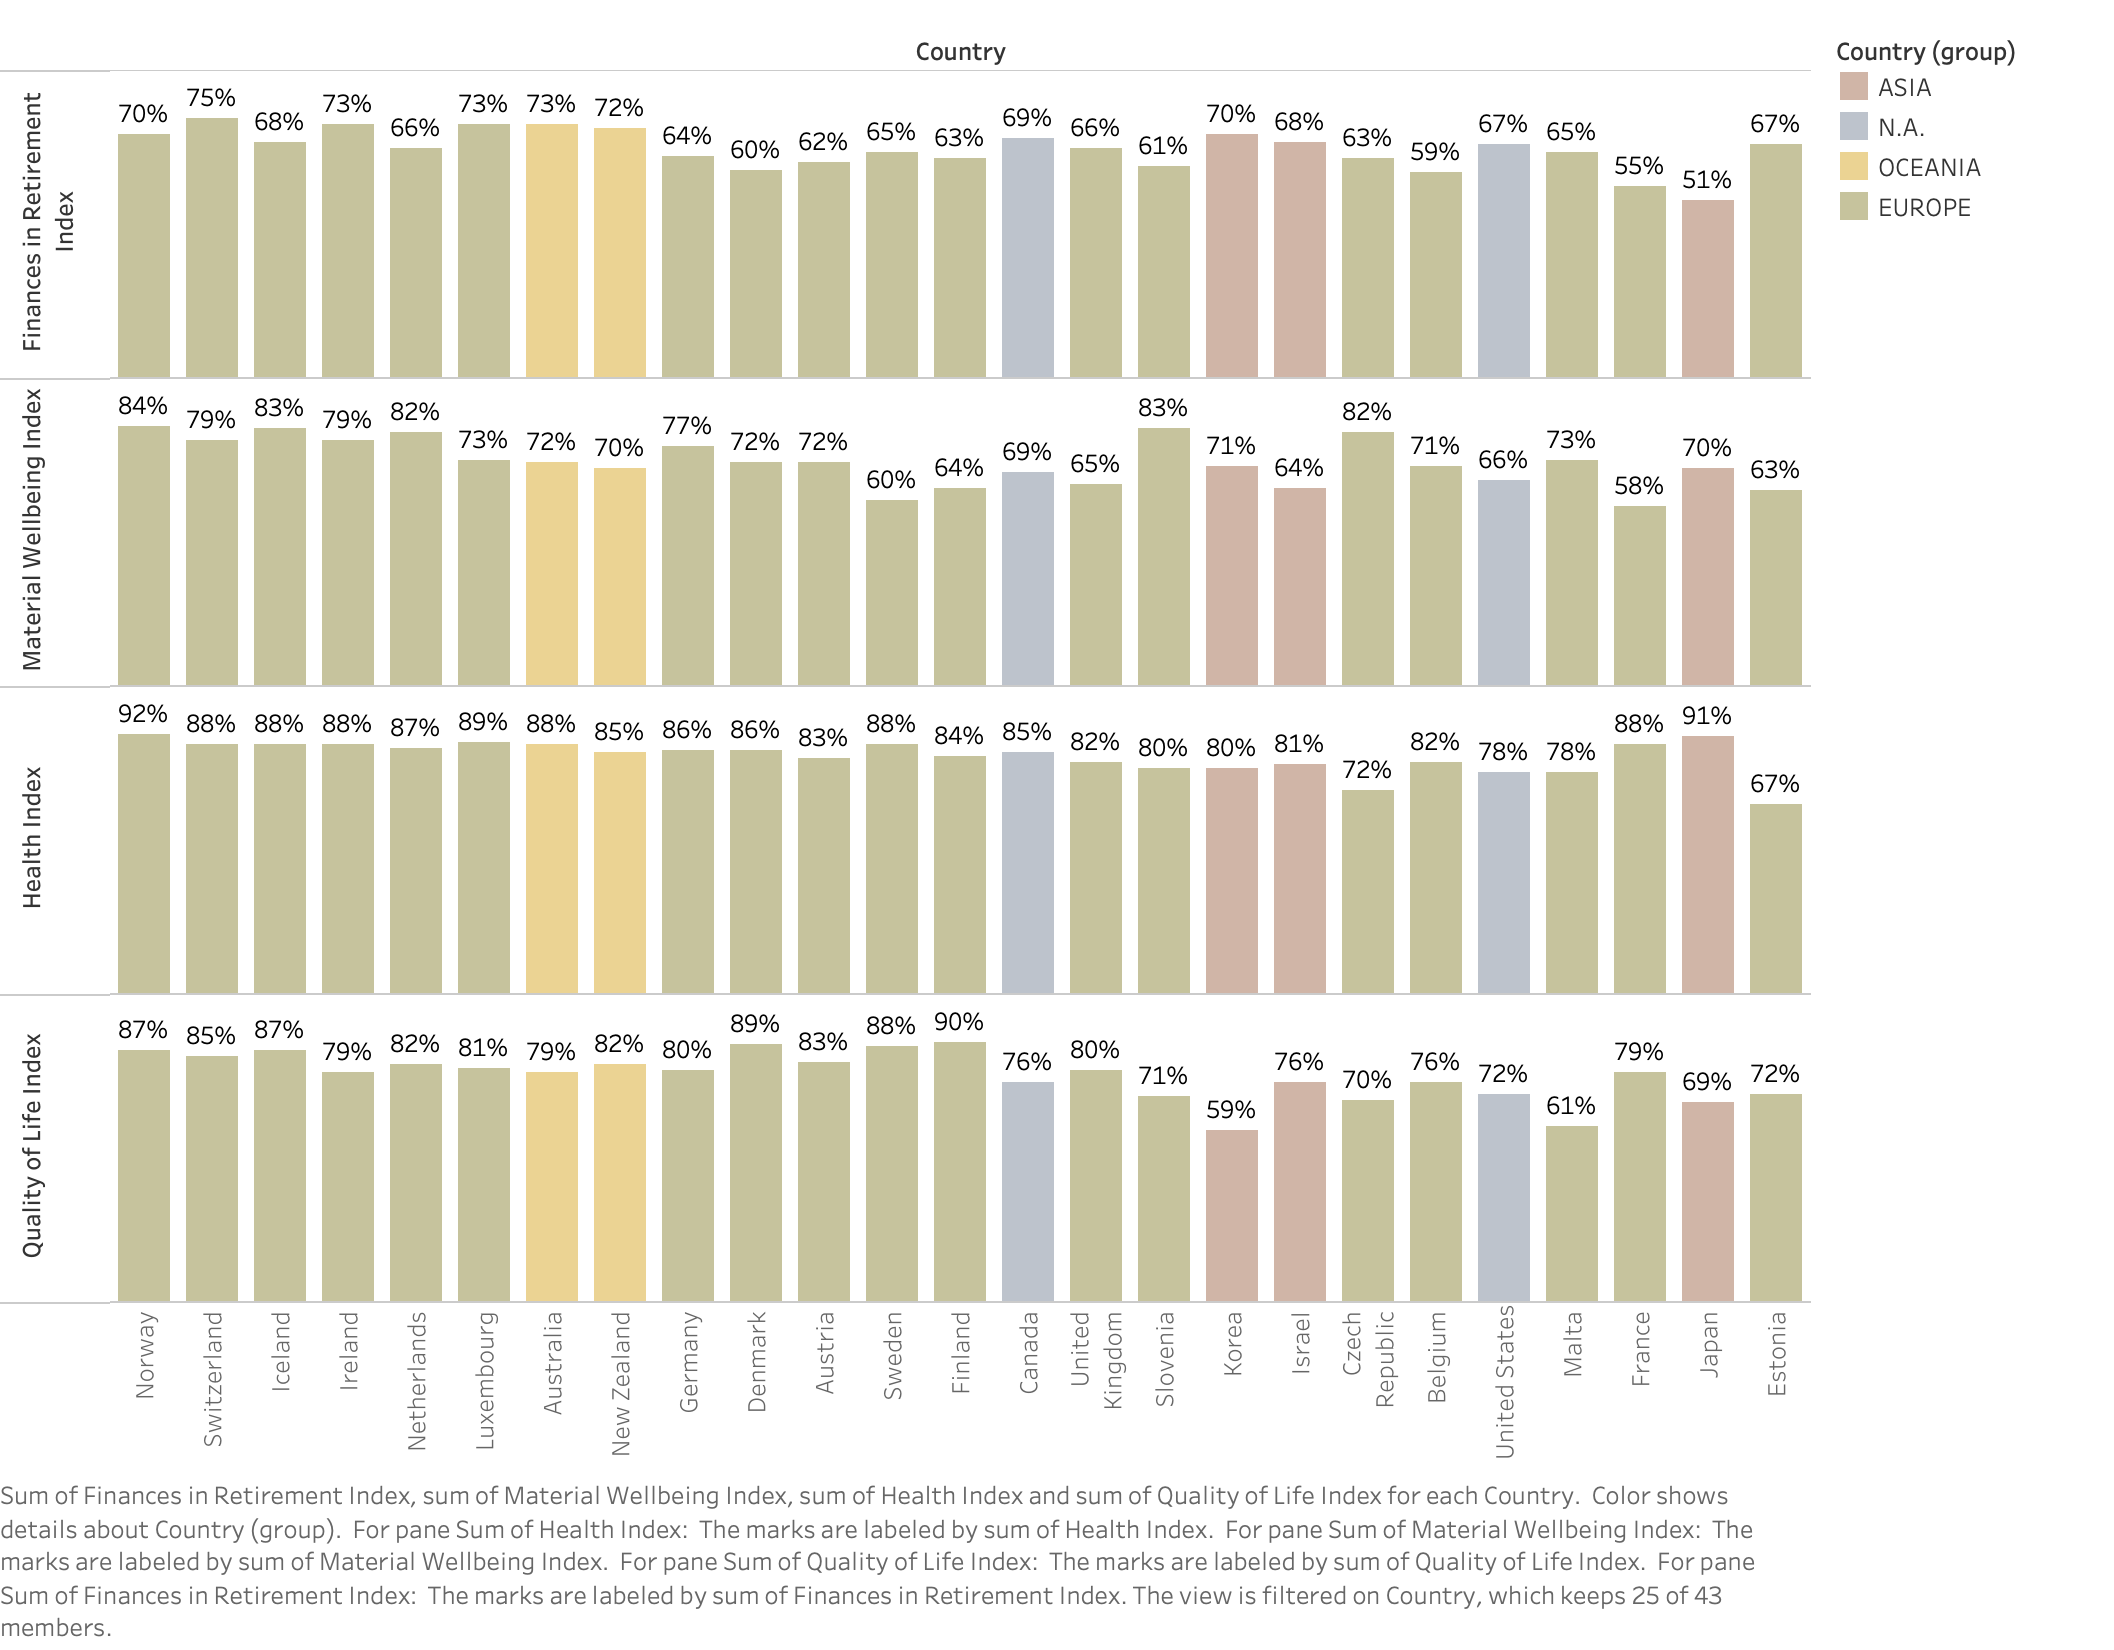

The page's visual inventory and layout, read from the dashboard file:
{"tool":"tableau","page":{"name":"Ranked top 25 Countries","canvas":[900,1000],"ordinal":0},"visuals":[{"type":"text","box":[5,1,540,245]},{"type":"text","box":[726,41,27,30]},{"type":"text","box":[695,60,27,30]},{"type":"text","box":[669,99,27,30]},{"type":"text","box":[795,154,27,30]},{"type":"image","param":"/Users/janhavipatil/Downloads/week7/health.png","box":[33,233,49,52]},{"type":"image","param":"/Users/janhavipatil/Downloads/week7/life.png","box":[218,233,49,52]},{"type":"image","param":"/Users/janhavipatil/Downloads/week7/wellbeing.png","box":[403,233,49,52]},{"type":"image","param":"/Users/janhavipatil/Downloads/week7/finance.png","box":[638,233,49,52]},{"type":"text","box":[77,240,75,30]},{"type":"text","box":[262,240,129,30]},{"type":"text","box":[447,240,185,30]},{"type":"text","box":[682,240,185,30]},{"type":"text","box":[15,277,194,66]},{"type":"text","box":[639,277,245,66]},{"type":"text","box":[221,278,194,66]},{"type":"text","box":[405,278,227,42]},{"type":"worksheet","title":"Global Index","mark":"Automatic","rows":["Global Retirement Index","Global Retirement Index"],"cols":["Country"],"box":[39,344,860,656]},{"type":"text","box":[9,670,26,115]},{"type":"text","box":[531,713,352,161]}]}

Visuals, with their boxes on the page's 900x1000 design canvas (x1, y1, x2, y2). These are canvas units, not pixel positions in the 2114x1650 screenshot, which may show the page scaled, cropped or inside an application window:
text: 5:1:545:246
text: 726:41:753:71
text: 695:60:722:90
text: 669:99:696:129
text: 795:154:822:184
image: 33:233:82:285
image: 218:233:267:285
image: 403:233:452:285
image: 638:233:687:285
text: 77:240:152:270
text: 262:240:391:270
text: 447:240:632:270
text: 682:240:867:270
text: 15:277:209:343
text: 639:277:884:343
text: 221:278:415:344
text: 405:278:632:320
"Global Index" worksheet: 39:344:899:1000
text: 9:670:35:785
text: 531:713:883:874
